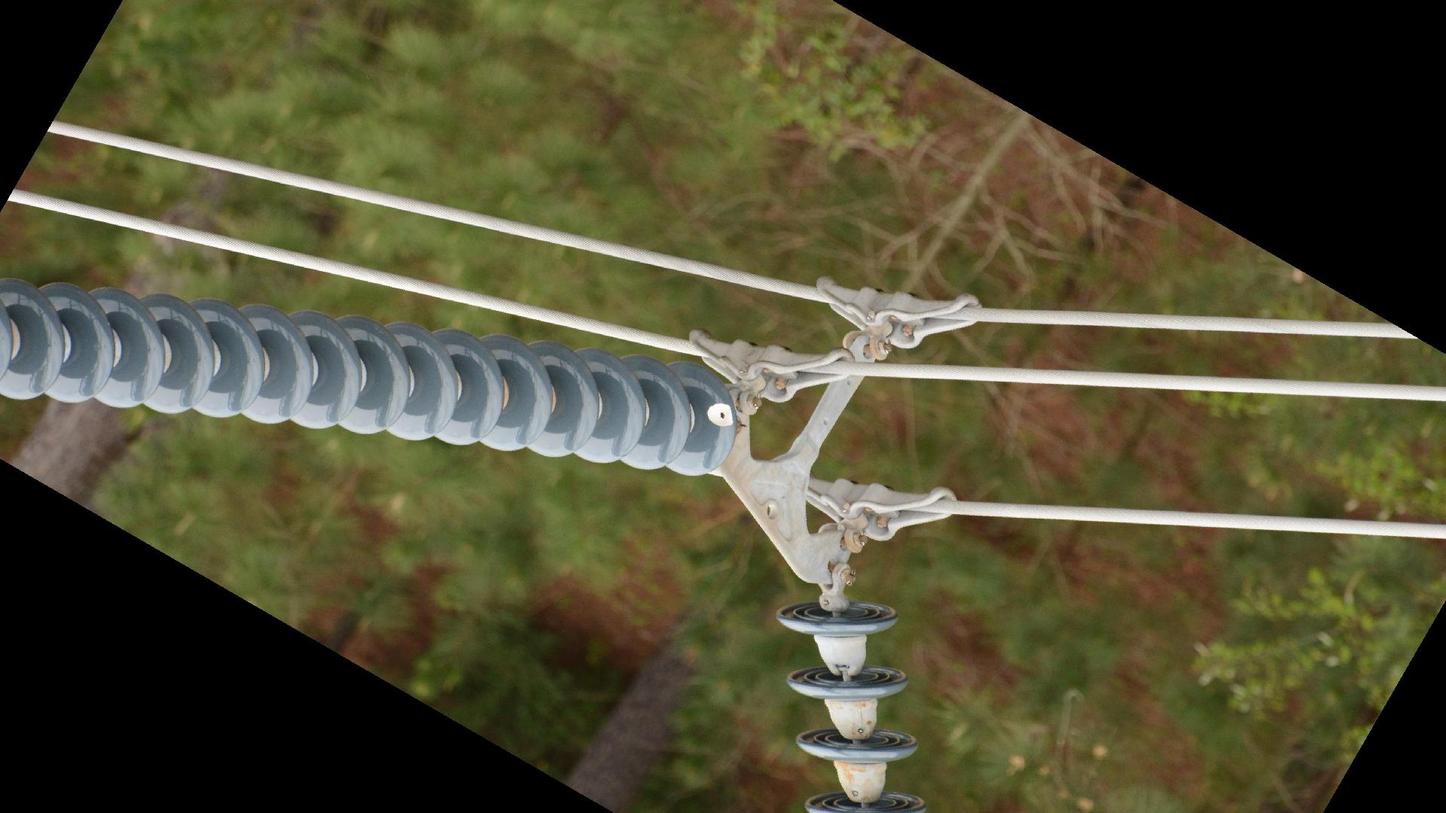insulator: (1, 271, 742, 486), (771, 592, 936, 813)
insulator_breakage: (700, 395, 741, 439)
